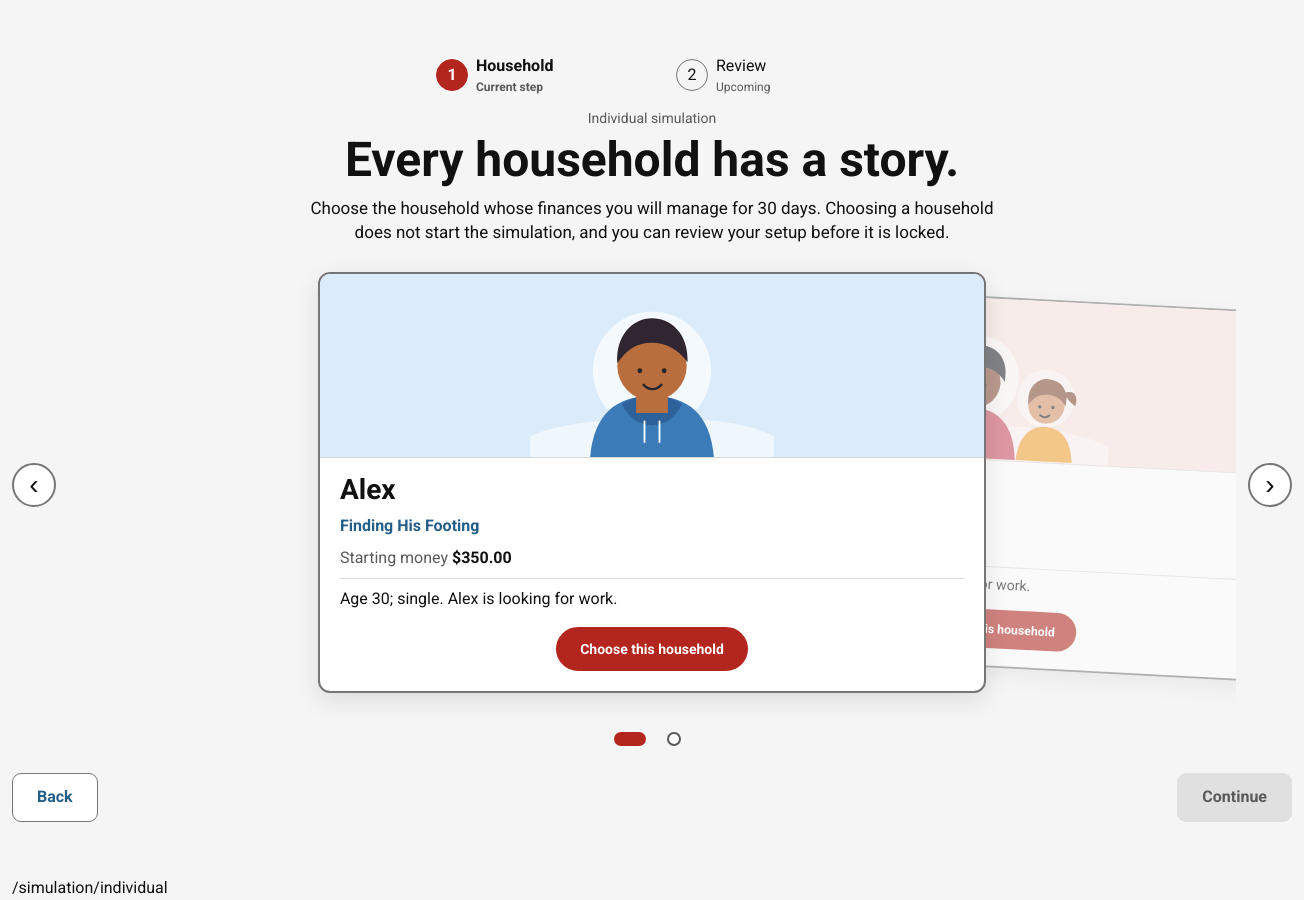
summarizes the chosen household and starting money without a support step
Click the text "Choose this household" below "$350.00" at (652, 650), box [556,628,748,672]
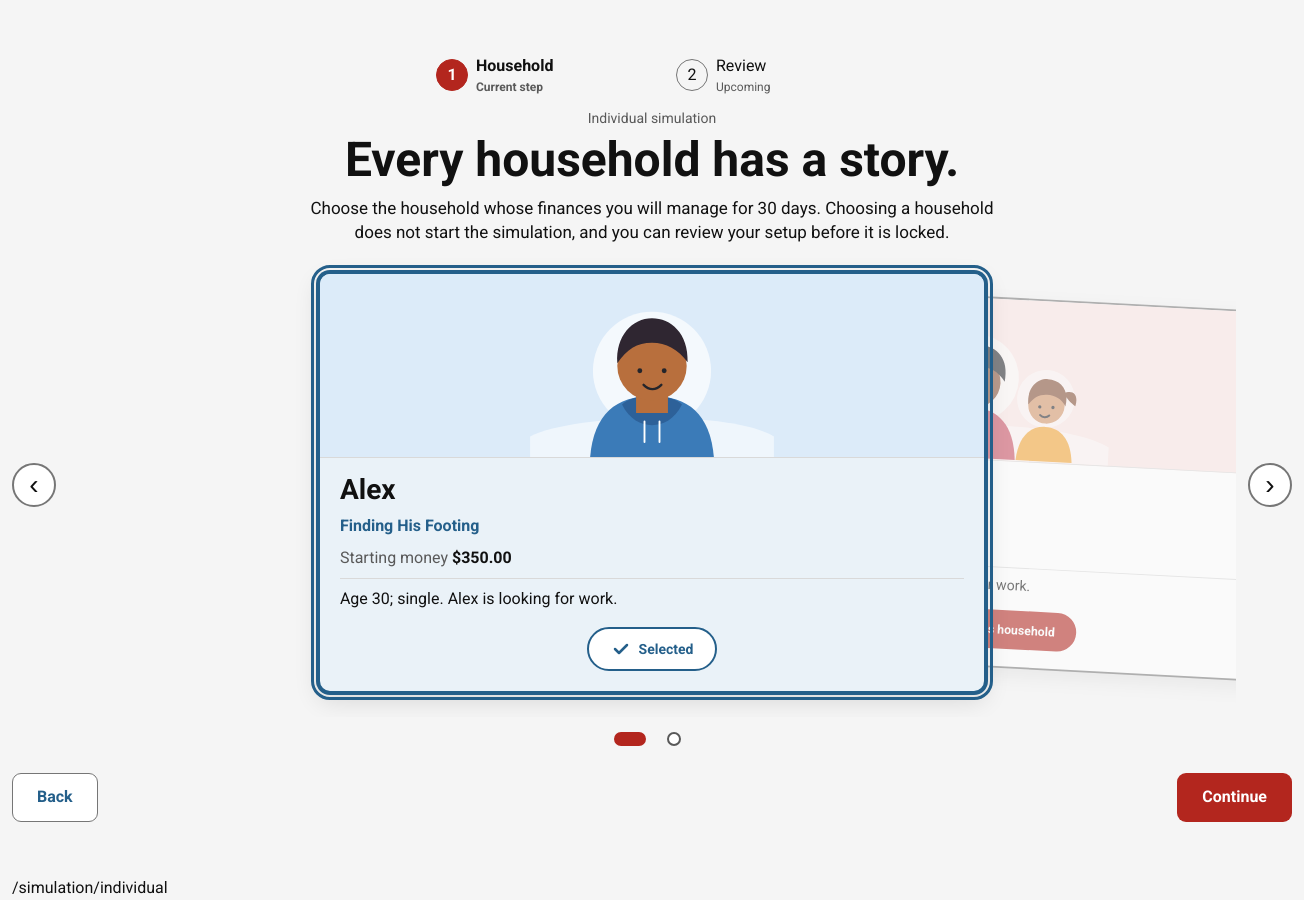
Click the button "Continue" at (1235, 798), box [1177,774,1292,822]
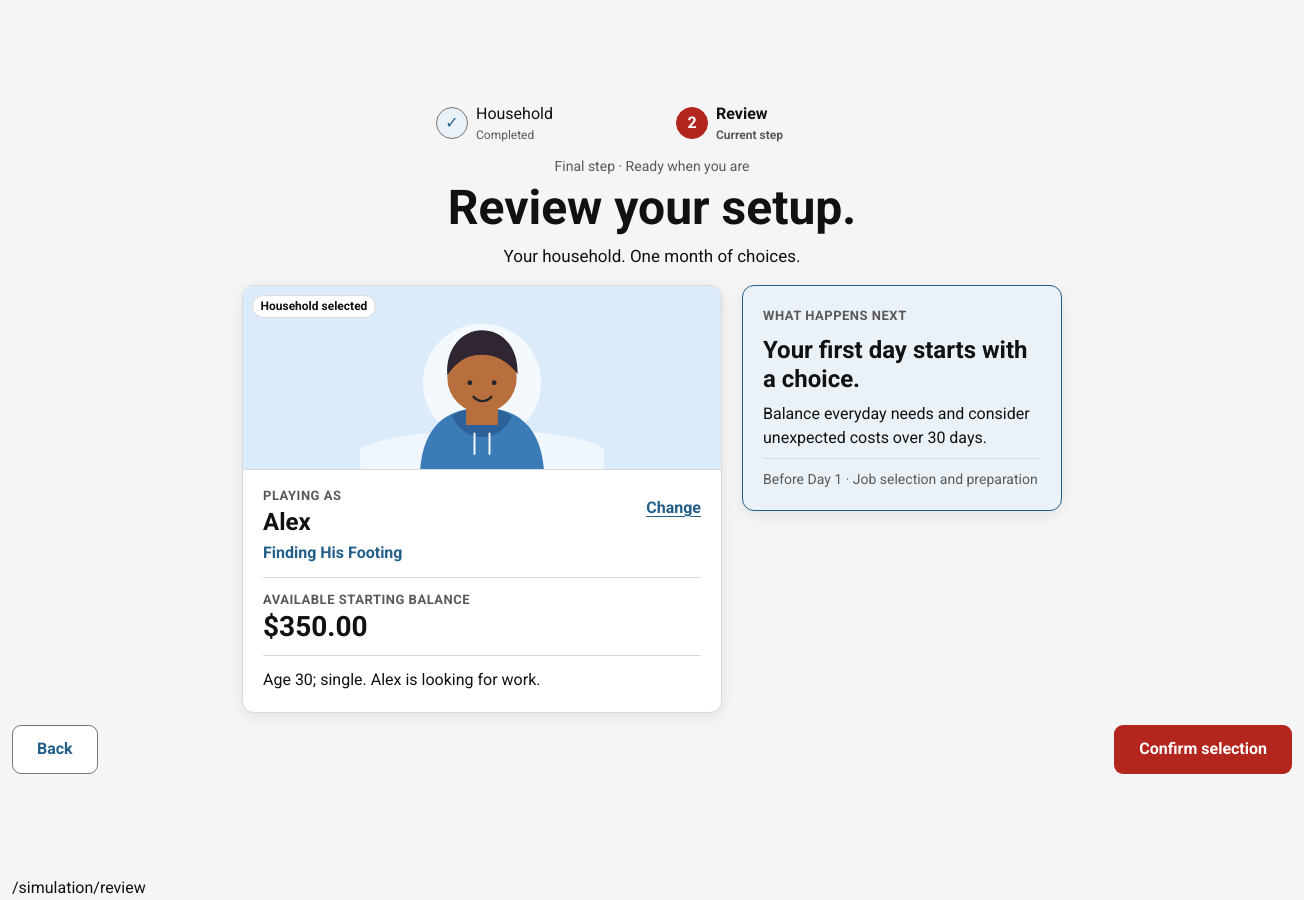
Expected: the text named "Current path" reads "/simulation/review", [12,878,146,897]
Expected: the heading "Review your setup." is shown, [448,179,856,236]
Expected: the list named "Setup step 2 of 2" is shown, [436,104,783,142]
